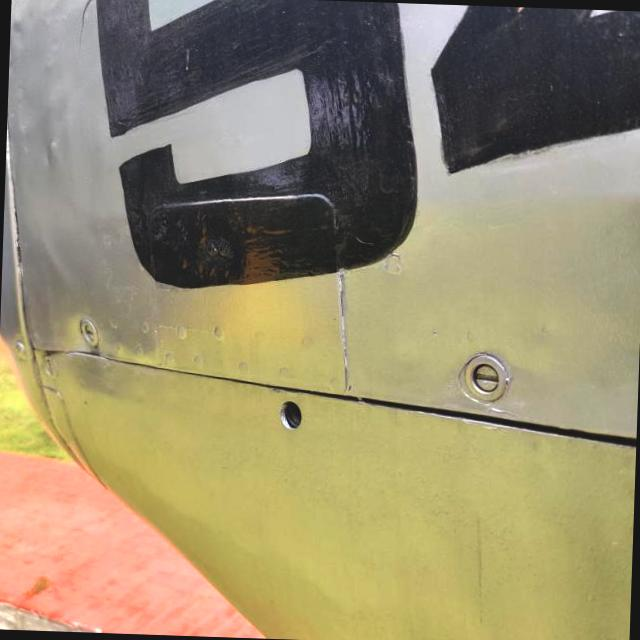Missing Fastener: (278, 400, 301, 430)
